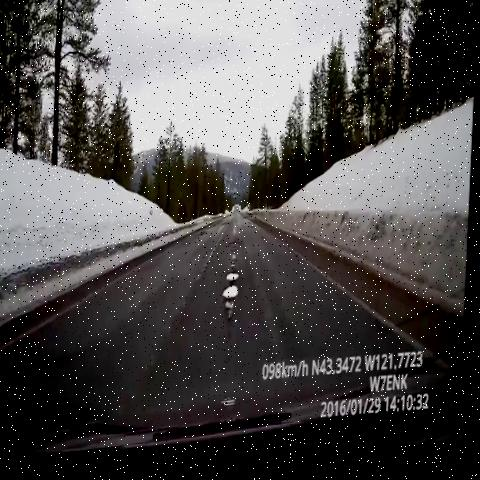pothole: (222, 285, 244, 328), (225, 241, 247, 269), (226, 271, 243, 289)
